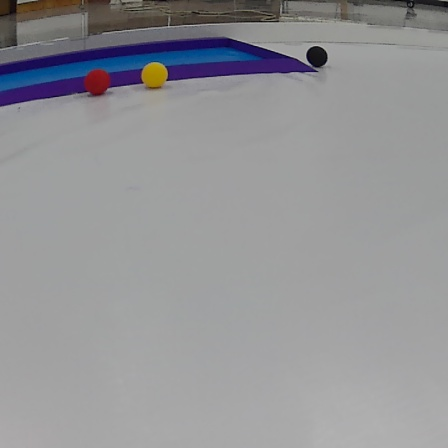black: (305, 43, 331, 68)
blue_aim: (0, 36, 321, 109)
red: (85, 70, 110, 93)
yellow: (139, 60, 169, 89)
